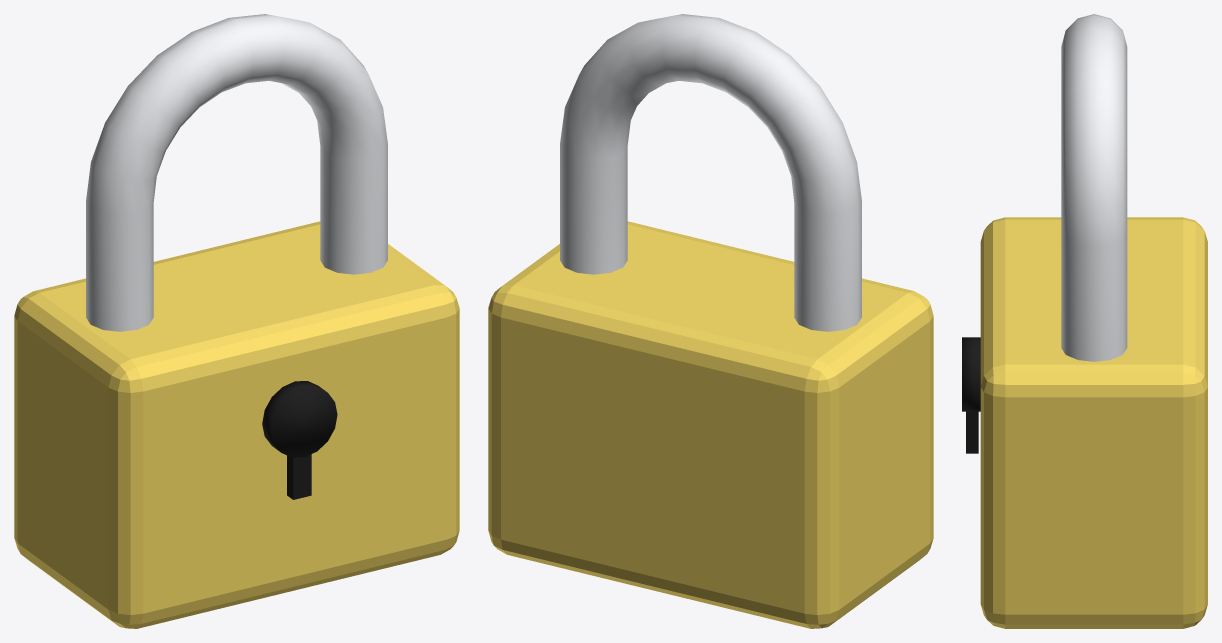
The model's file is Lock.fbx.
The picture shows the model from 3 angles, left to right: view 1: azimuth 30°, elevation 25°; view 2: azimuth 150°, elevation 25°; view 3: azimuth 270°, elevation 25°; orthographic projection. The views are drawn at different scales.
Visible parts, largest first — view 1: Padlock_Body, Padlock_Shackle, Padlock_Keyhole_Circle, Padlock_Keyhole_Slot; view 2: Padlock_Body, Padlock_Shackle; view 3: Padlock_Body, Padlock_Shackle, Padlock_Keyhole_Circle, Padlock_Keyhole_Slot.
Part boxes in pixels (bbox=[...]): Padlock_Body: bbox=[14, 221, 459, 628]; Padlock_Shackle: bbox=[86, 14, 387, 331]; Padlock_Keyhole_Circle: bbox=[262, 381, 337, 457]; Padlock_Keyhole_Slot: bbox=[287, 454, 311, 499]; Padlock_Body: bbox=[488, 221, 933, 628]; Padlock_Shackle: bbox=[560, 14, 861, 331]; Padlock_Body: bbox=[980, 217, 1207, 628]; Padlock_Shackle: bbox=[1061, 14, 1127, 361]; Padlock_Keyhole_Circle: bbox=[962, 337, 980, 411]; Padlock_Keyhole_Slot: bbox=[966, 411, 978, 453].
Bounding box in the file's own units: 95 × 140 × 59.5.
